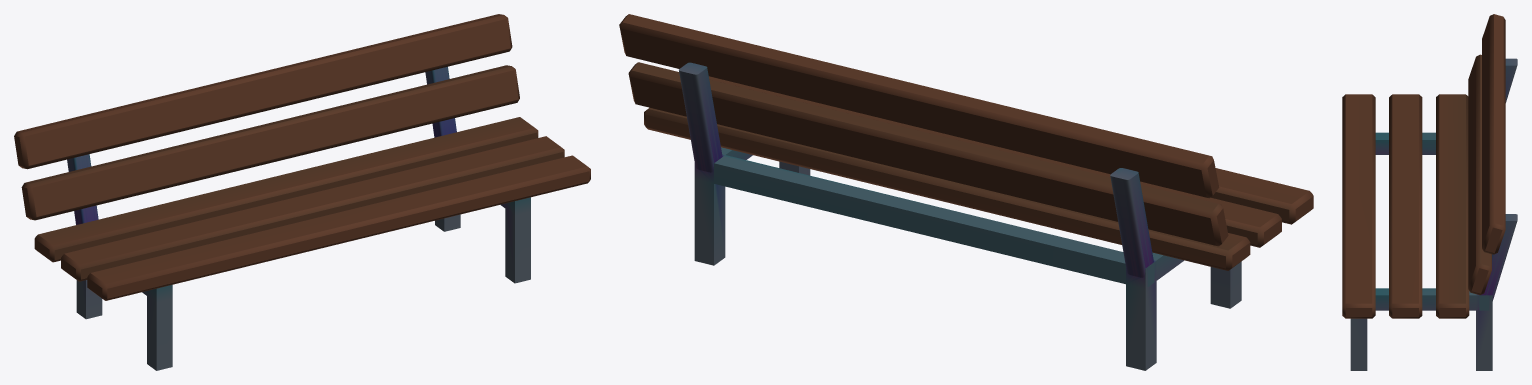
3 views of the same model, side by side, from view 1: azimuth 30°, elevation 25°; view 2: azimuth 150°, elevation 25°; view 3: azimuth 270°, elevation 25° (orthographic). The views are drawn at different scales.
Parts seen in each view (by area): view 1: back_plank.001, back_plank, seat_plank.001, seat_plank.003, seat_plank.002, front_leg, front_leg.001; view 2: back_plank.001, back_plank, rail, seat_plank.003, front_leg, front_leg.001, seat_plank.002, seat_plank.001; view 3: seat_plank.001, seat_plank.002, seat_plank.003, back_plank.001, front_leg.001, back_plank, front_leg, rail.
Part boxes in pixels (x1,y1,x2,y2): back_plank.001: (14,14,512,169); back_plank: (21,65,519,220); seat_plank.001: (87,155,590,300); seat_plank.003: (34,117,538,262); seat_plank.002: (61,136,564,281); front_leg: (67,154,172,370); front_leg.001: (425,66,530,283); back_plank.001: (619,14,1219,198); back_plank: (628,62,1228,246); rail: (714,155,1154,286); seat_plank.003: (644,107,1250,270); front_leg: (1110,168,1241,370); front_leg.001: (679,62,810,265); seat_plank.002: (709,76,1281,247); seat_plank.001: (1211,168,1313,224); seat_plank.001: (1342,94,1375,318); seat_plank.002: (1389,94,1422,318); seat_plank.003: (1436,94,1469,318); back_plank.001: (1482,14,1505,254); front_leg.001: (1350,214,1517,370); back_plank: (1468,54,1491,295); front_leg: (1375,58,1517,154); rail: (1479,295,1489,310).
Bounding box in the file's own units: 1.8 × 0.6776 × 0.63.
